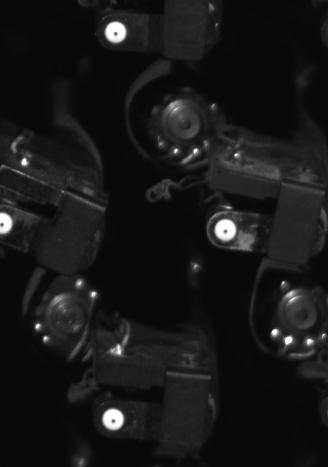fiber: (98, 405, 132, 434), (212, 216, 240, 246), (100, 20, 133, 45), (1, 206, 15, 241)
